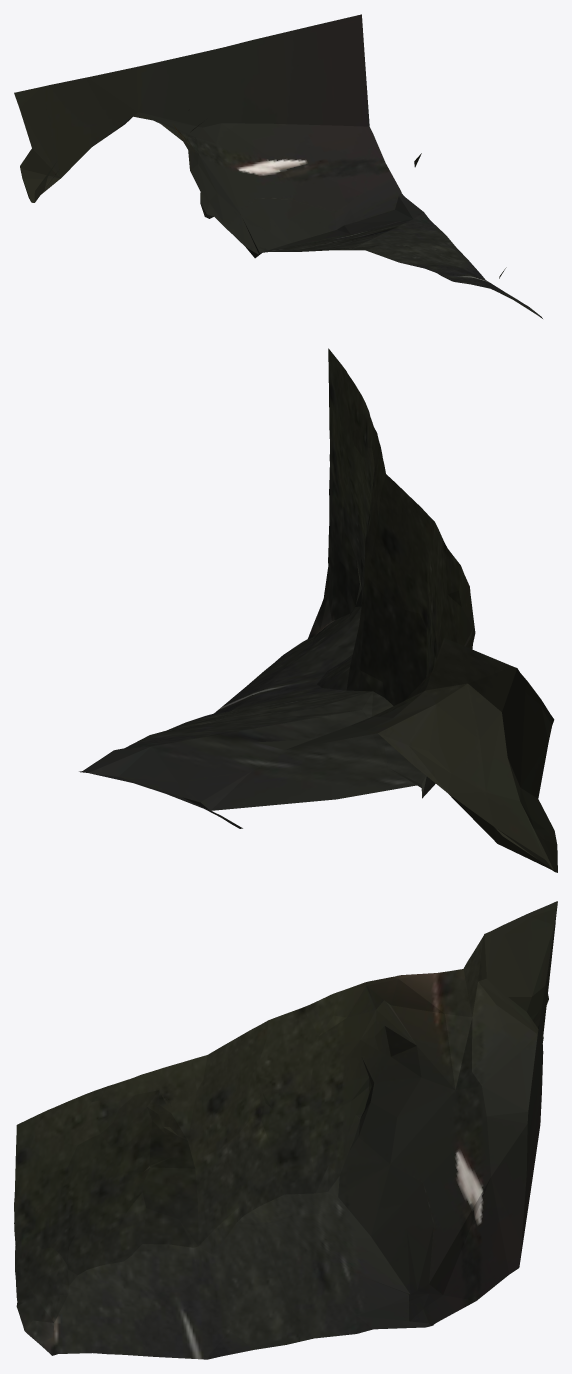
3 views of the same model, one above another, from view 1: azimuth 30°, elevation 25°; view 2: azimuth 150°, elevation 25°; view 3: azimuth 270°, elevation 25° (orthographic). The views are drawn at different scales.
Bounding box in the file's own units: 0.8436 × 0.4129 × 0.867.
Materials: 1 (1 with a texture image).
